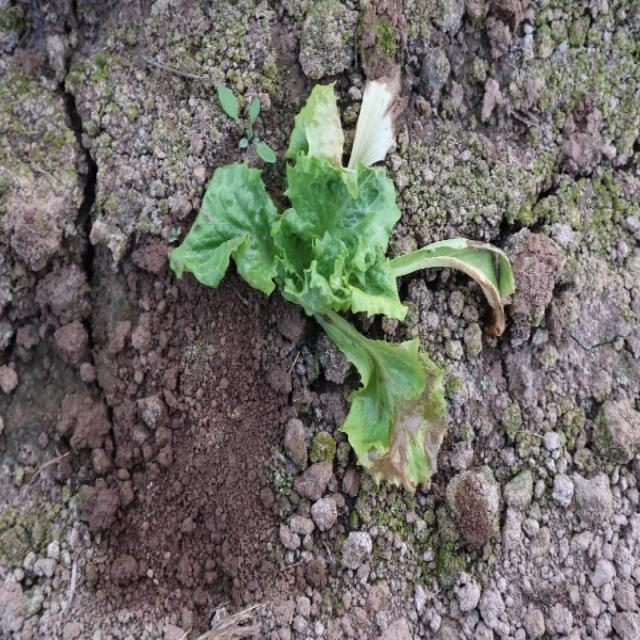crop: (168, 140, 409, 324)
